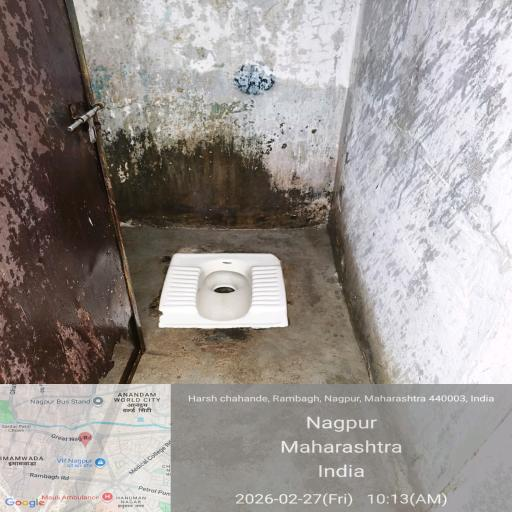clean_floor: (361, 116, 503, 372)
partial_dirty_floor: (120, 227, 373, 396), (86, 123, 342, 235)
partial_dirty_indian: (162, 256, 290, 328)
